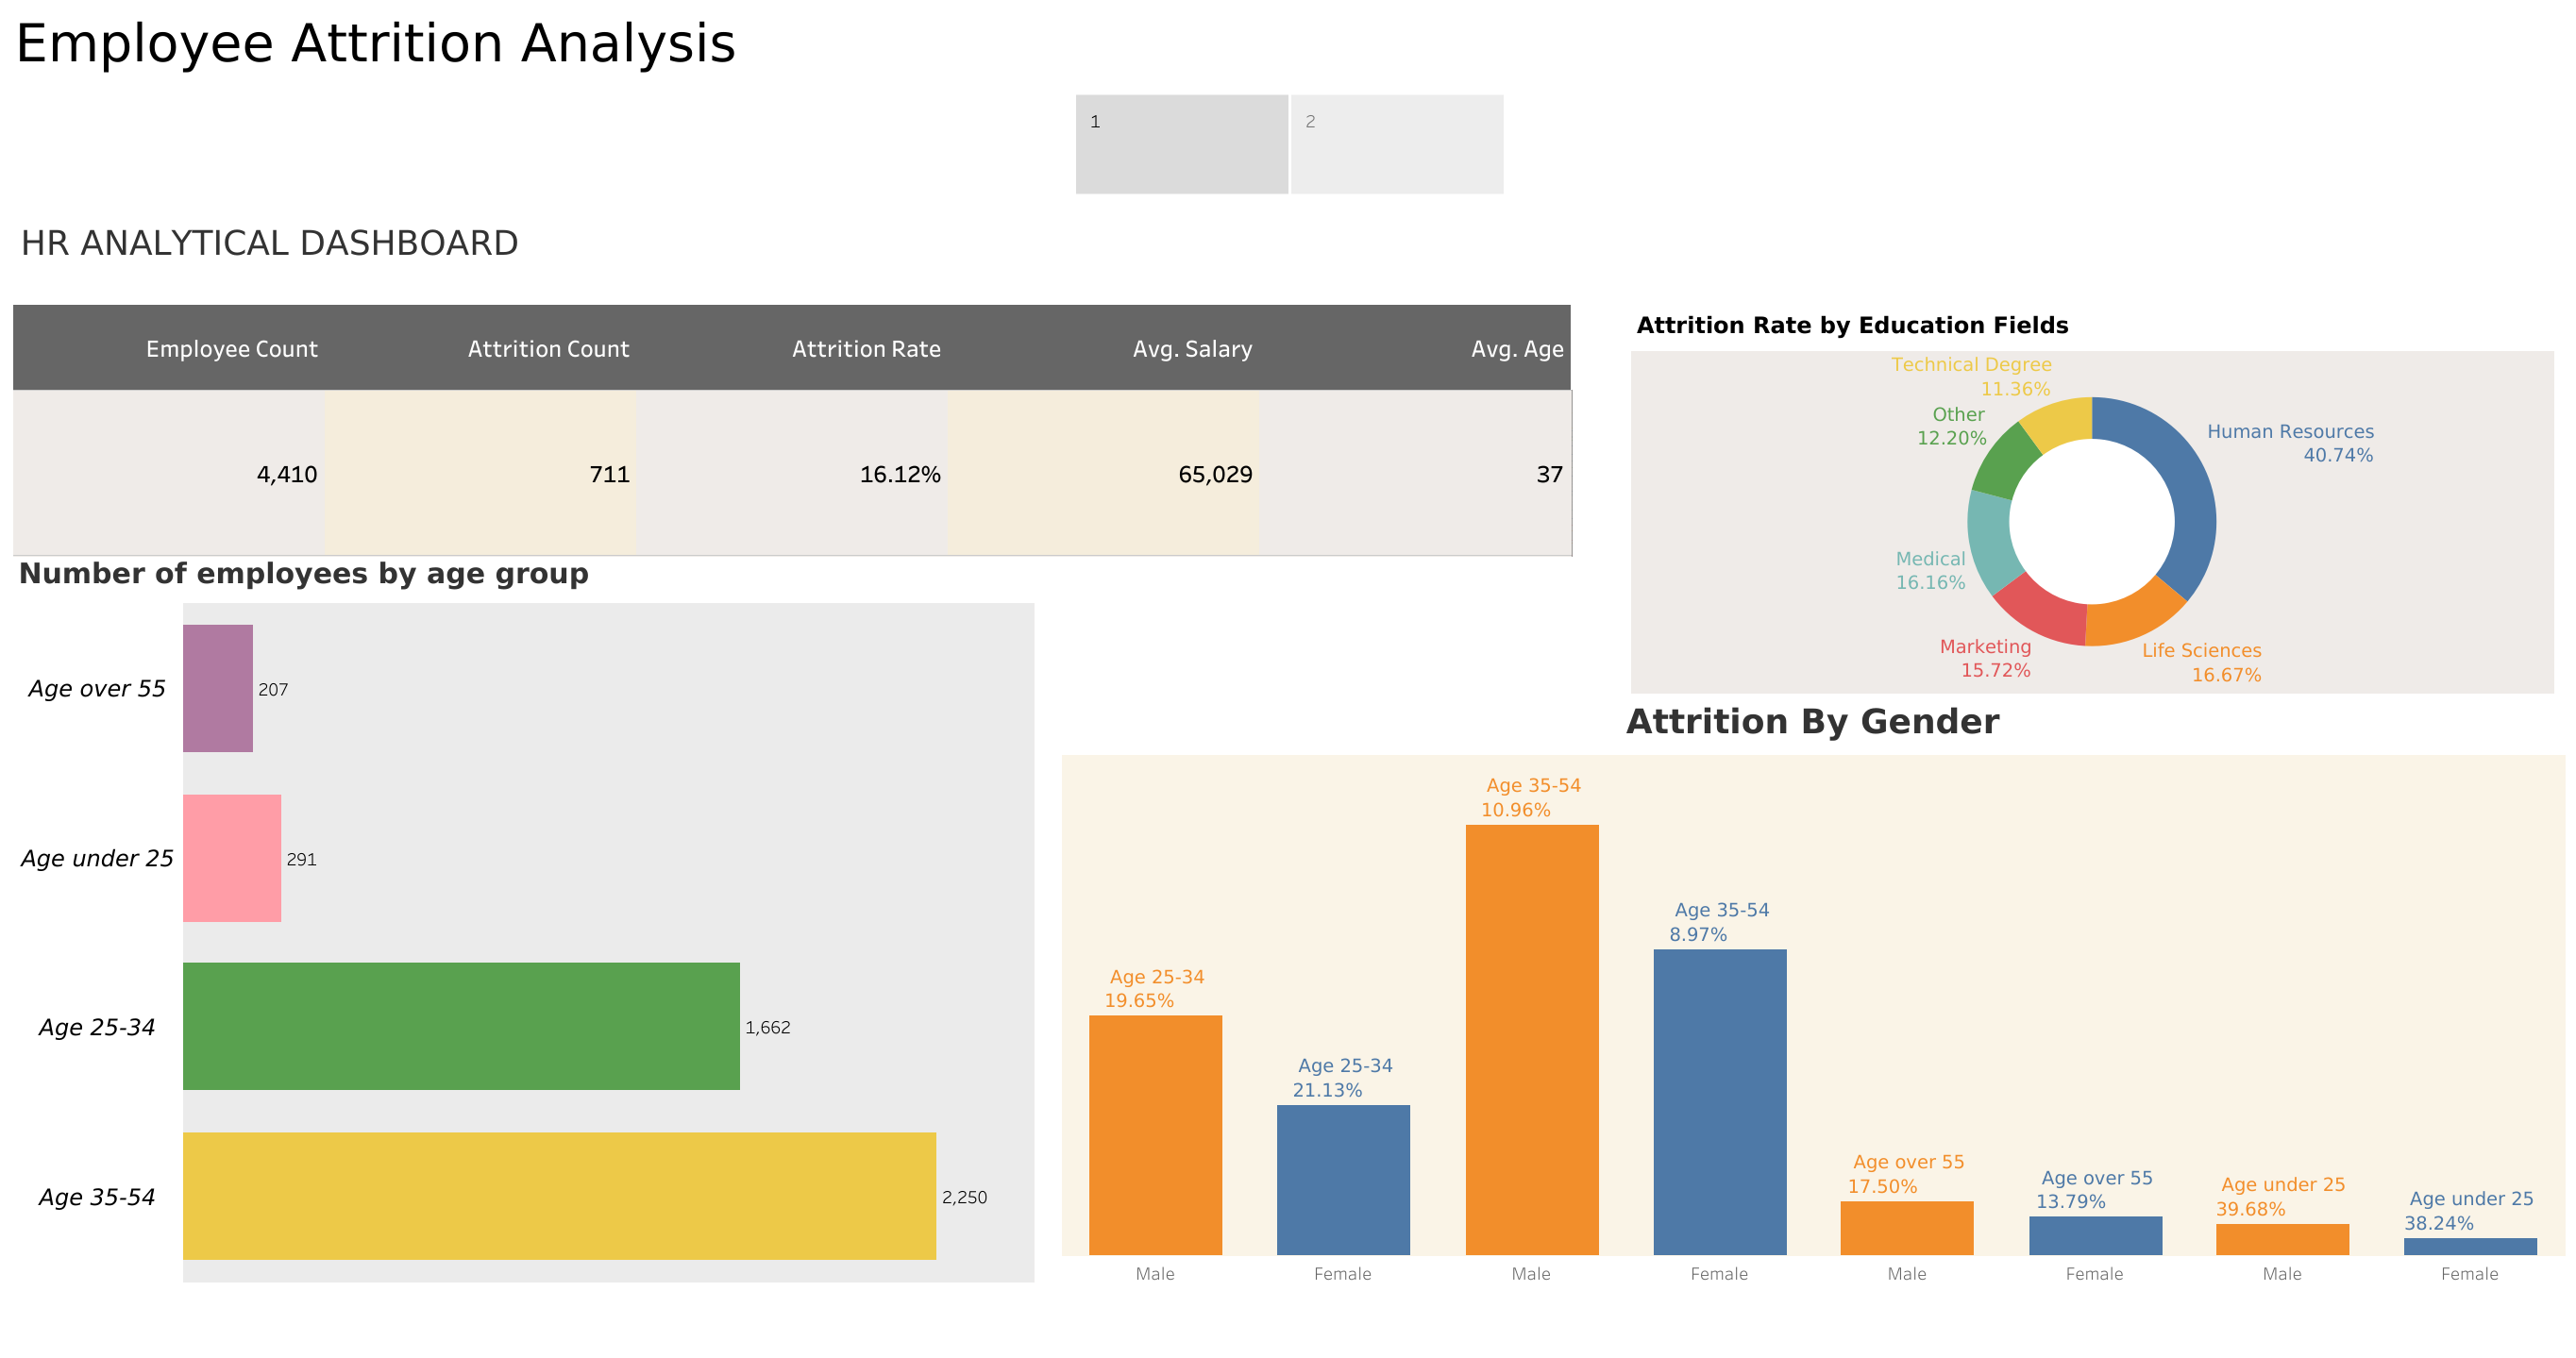

Layout of this report page (visuals, bound fields, positions):
{"tool":"tableau","page":{"name":"Dashboard 1","canvas":[1000,1000],"units":"permille","ordinal":0},"visuals":[{"type":"title","box":[0,0,1000,61.9]},{"type":"worksheet","title":"Sheet 7","mark":"Pie","rows":["EmployeeCount","EmployeeCount"],"box":[633.9,80.3,361.1,361.8]},{"type":"worksheet","title":"Sheet 8","mark":"Automatic","box":[0.6,81.6,610.3,234.2]},{"type":"worksheet","title":"Sheet 1","mark":"Automatic","rows":["Calculation_1136877454654398464"],"cols":["EmployeeCount"],"box":[0.6,307.9,399,681.6]},{"type":"worksheet","title":"Sheet 5","mark":"Automatic","rows":["Age"],"cols":["Calculation_1136877454654398464","Gender"],"box":[411.4,442.1,587.9,551.3]}]}

Visuals, with their boxes on the dashboard's canvas, which has no fixed pixel size, in thousandths of its width and height (x1, y1, x2, y2). These are canvas units, not pixel positions in the 2576x1358 screenshot, which may show the page scaled, cropped or inside an application window:
title: 0,0,1000,62
"Sheet 7" worksheet (Pie marks): 634,80,995,442
"Sheet 8" worksheet: 1,82,611,316
"Sheet 1" worksheet: 1,308,400,990
"Sheet 5" worksheet: 411,442,999,993
